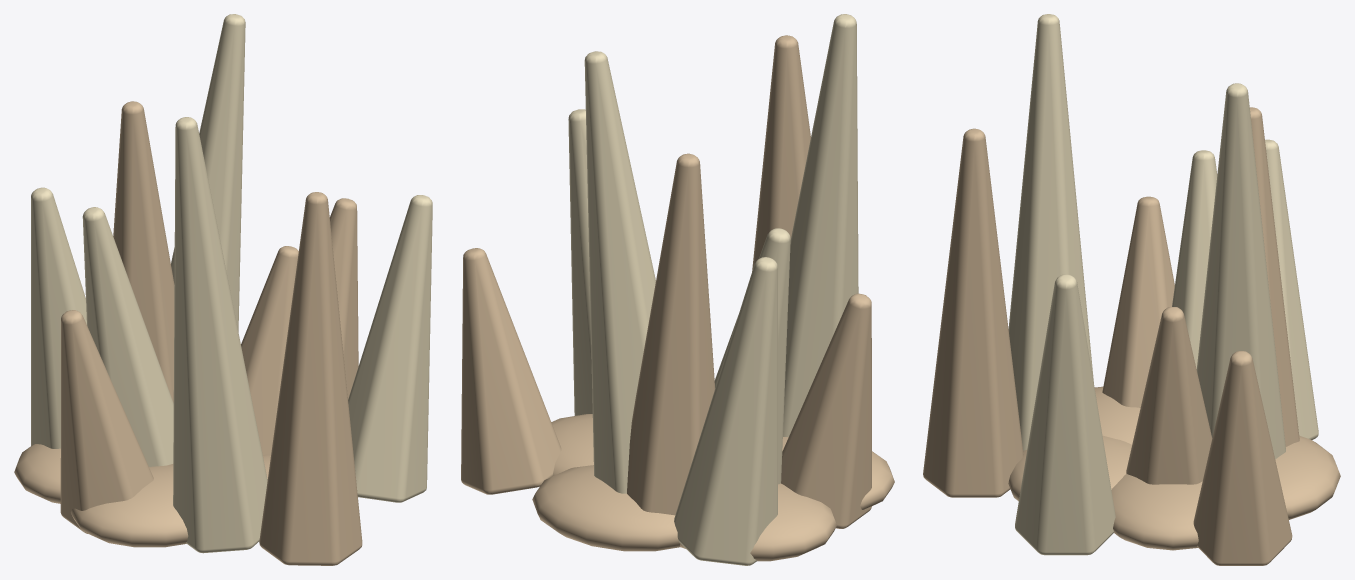
The model's file is bio_crystal_fan_06_near.glb.
3 views of the same model, side by side, from view 1: azimuth 30°, elevation 25°; view 2: azimuth 150°, elevation 25°; view 3: azimuth 270°, elevation 25° (orthographic). The views are drawn at different scales.
Visible parts, largest first — view 1: Reflecting mineral prism.007, Reflecting mineral prism.002, Reflecting mineral prism.005, Reflecting mineral prism.004, Reflecting mineral prism.009, Reflecting mineral prism.006, Reflecting mineral prism.001, Reflecting mineral prism.003, Mineral substrate, Reflecting mineral prism, Reflecting mineral prism.008; view 2: Reflecting mineral prism.003, Reflecting mineral prism.001, Reflecting mineral prism.006, Reflecting mineral prism.007, Reflecting mineral prism.008, Mineral substrate, Reflecting mineral prism.004, Reflecting mineral prism.002, Reflecting mineral prism.005, Reflecting mineral prism.009; view 3: Reflecting mineral prism.002, Reflecting mineral prism.005, Reflecting mineral prism.007, Reflecting mineral prism.003, Reflecting mineral prism.008, Mineral substrate, Reflecting mineral prism, Reflecting mineral prism.004, Reflecting mineral prism.009, Reflecting mineral prism.001, Reflecting mineral prism.006.
Boxes of the visible parts, bbox=[...] form: Reflecting mineral prism.007: bbox=[173, 117, 267, 553]; Reflecting mineral prism.002: bbox=[259, 192, 362, 565]; Reflecting mineral prism.005: bbox=[348, 195, 432, 502]; Reflecting mineral prism.004: bbox=[60, 310, 153, 533]; Reflecting mineral prism.009: bbox=[82, 207, 173, 466]; Reflecting mineral prism.006: bbox=[113, 101, 174, 402]; Reflecting mineral prism.001: bbox=[31, 187, 86, 448]; Reflecting mineral prism.003: bbox=[171, 14, 245, 331]; Mineral substrate: bbox=[14, 444, 270, 547]; Reflecting mineral prism: bbox=[241, 246, 298, 454]; Reflecting mineral prism.008: bbox=[329, 198, 358, 399]; Reflecting mineral prism.003: bbox=[584, 51, 655, 493]; Reflecting mineral prism.001: bbox=[674, 257, 777, 565]; Reflecting mineral prism.006: bbox=[627, 153, 715, 515]; Reflecting mineral prism.007: bbox=[783, 14, 858, 436]; Reflecting mineral prism.008: bbox=[461, 248, 561, 494]; Mineral substrate: bbox=[532, 414, 894, 561]; Reflecting mineral prism.004: bbox=[781, 293, 871, 528]; Reflecting mineral prism.002: bbox=[752, 35, 810, 271]; Reflecting mineral prism.005: bbox=[568, 109, 592, 415]; Reflecting mineral prism.009: bbox=[714, 228, 790, 484]; Reflecting mineral prism.002: bbox=[923, 128, 1023, 497]; Reflecting mineral prism.005: bbox=[1015, 274, 1115, 555]; Reflecting mineral prism.007: bbox=[1008, 14, 1093, 450]; Reflecting mineral prism.003: bbox=[1196, 83, 1285, 458]; Reflecting mineral prism.008: bbox=[1193, 351, 1292, 565]; Mineral substrate: bbox=[1008, 386, 1340, 550]; Reflecting mineral prism: bbox=[1126, 307, 1212, 484]; Reflecting mineral prism.004: bbox=[1102, 196, 1174, 407]; Reflecting mineral prism.009: bbox=[1172, 150, 1217, 368]; Reflecting mineral prism.001: bbox=[1265, 139, 1318, 439]; Reflecting mineral prism.006: bbox=[1249, 107, 1299, 446].
Bounding box in the file's own units: 1.45 × 1.79 × 1.55.
